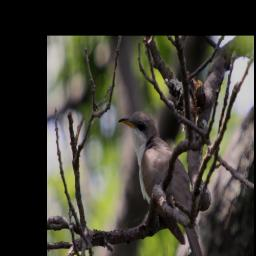Cuckoo: (117, 107, 208, 256)
